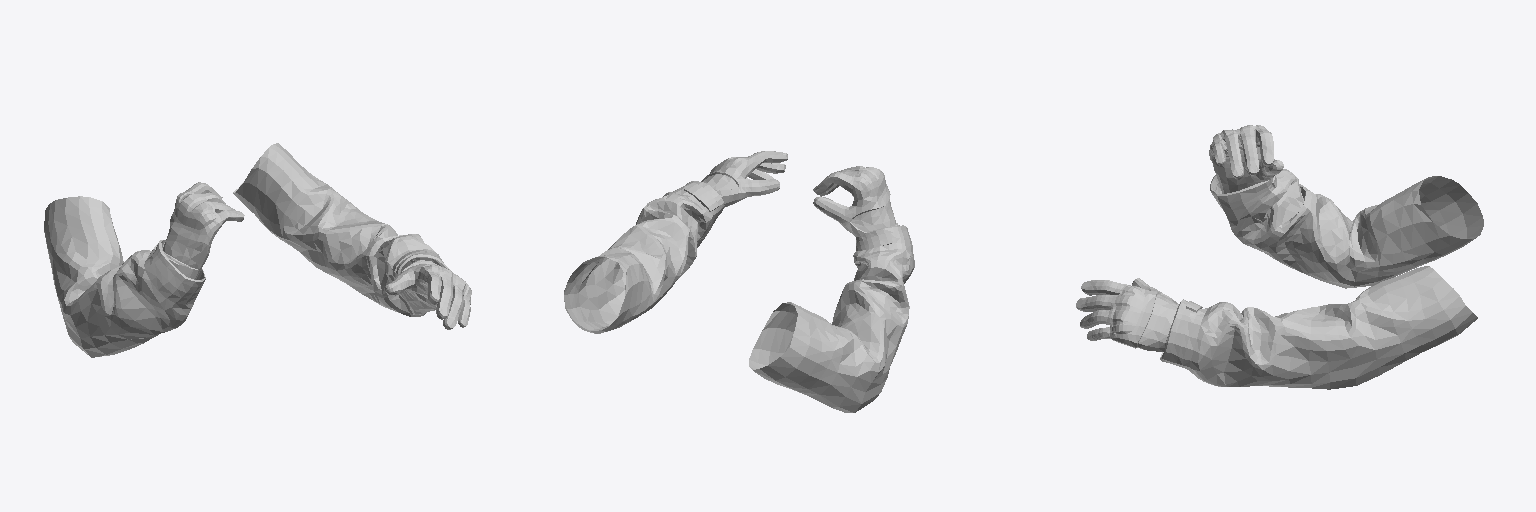
The model's file is FPS_HAND.obj.
3 views of the same model, side by side, from view 1: azimuth 30°, elevation 25°; view 2: azimuth 150°, elevation 25°; view 3: azimuth 270°, elevation 25° (orthographic).
Visible parts, largest first — view 1: Arm_mesh001, Glove_mesh; view 2: Arm_mesh001, Glove_mesh; view 3: Arm_mesh001, Glove_mesh.
Part boxes in pixels (x1,y1,x2,y2): Arm_mesh001: (44,143,450,357); Glove_mesh: (162,182,471,329); Arm_mesh001: (564,181,914,412); Glove_mesh: (701,151,899,238); Arm_mesh001: (1160,169,1483,389); Glove_mesh: (1076,125,1283,351).
Bounding box in the file's own units: 0.7212 × 0.4228 × 0.8405.